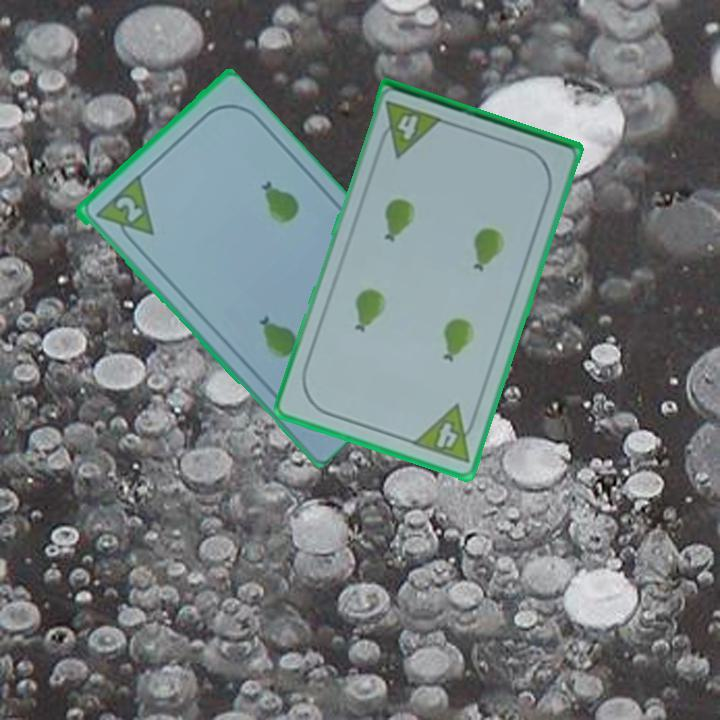2p: (91, 173, 157, 251)
4p: (408, 401, 482, 466), (374, 98, 446, 160)
